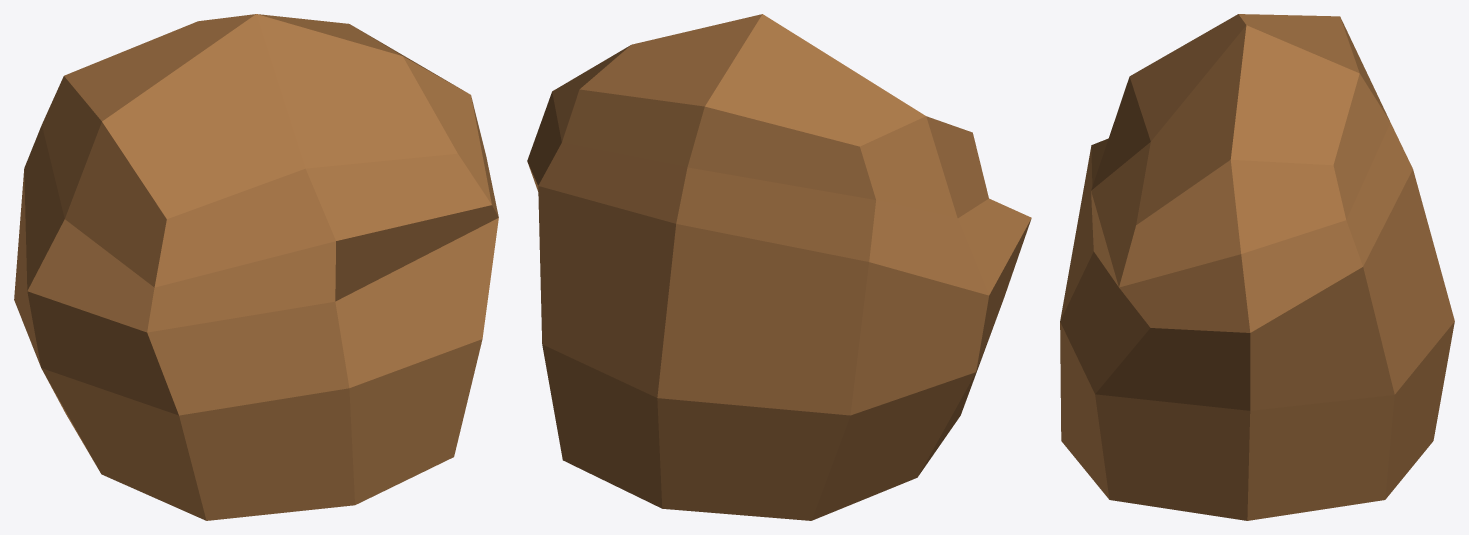
File: Huge_Rock_5_5_4_Colored.fbx
3 views of the same model, side by side, from view 1: azimuth 30°, elevation 25°; view 2: azimuth 150°, elevation 25°; view 3: azimuth 270°, elevation 25° (orthographic). The views are drawn at different scales.
Parts seen in each view (by area): view 1: Huge_Rock_5_5_4; view 2: Huge_Rock_5_5_4; view 3: Huge_Rock_5_5_4.
Boxes of the visible parts, x1,y1,x2,y2 form: Huge_Rock_5_5_4: (14, 14, 498, 520); Huge_Rock_5_5_4: (527, 14, 1031, 520); Huge_Rock_5_5_4: (1060, 14, 1454, 520).
Bounding box in the file's own units: 501 × 441 × 381.
